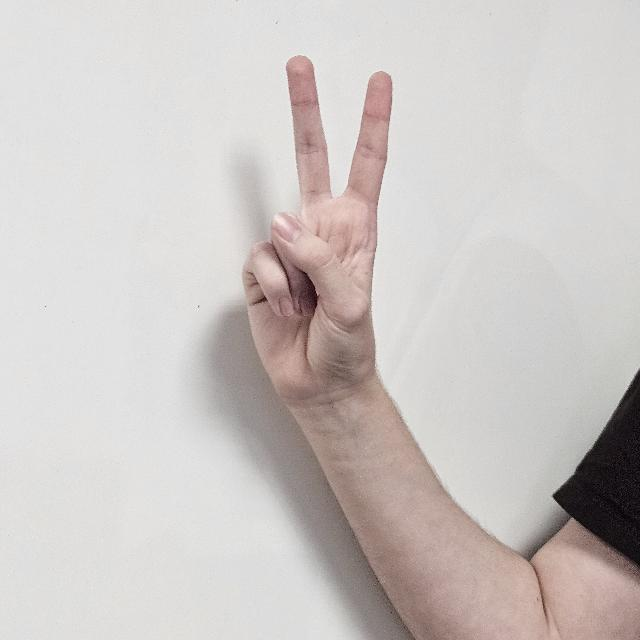Triangulo: (237, 46, 413, 464)
